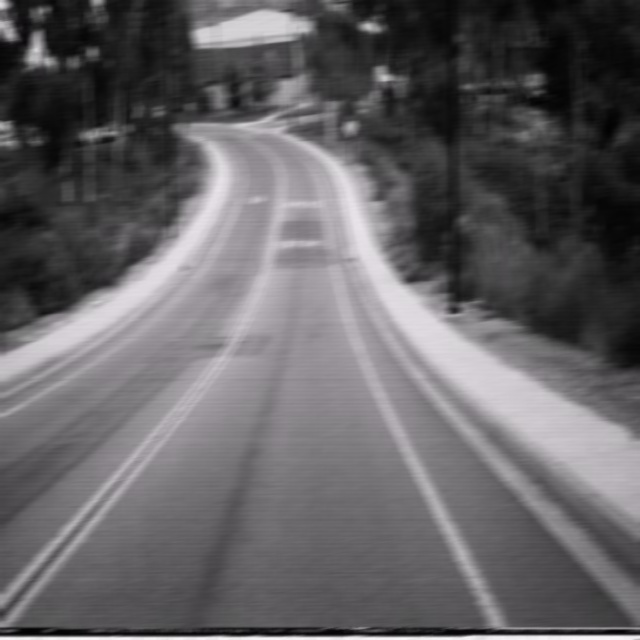stopAhead: (345, 114, 357, 138)
